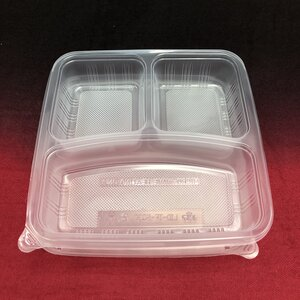PlasticBox: (14, 45, 275, 261)
